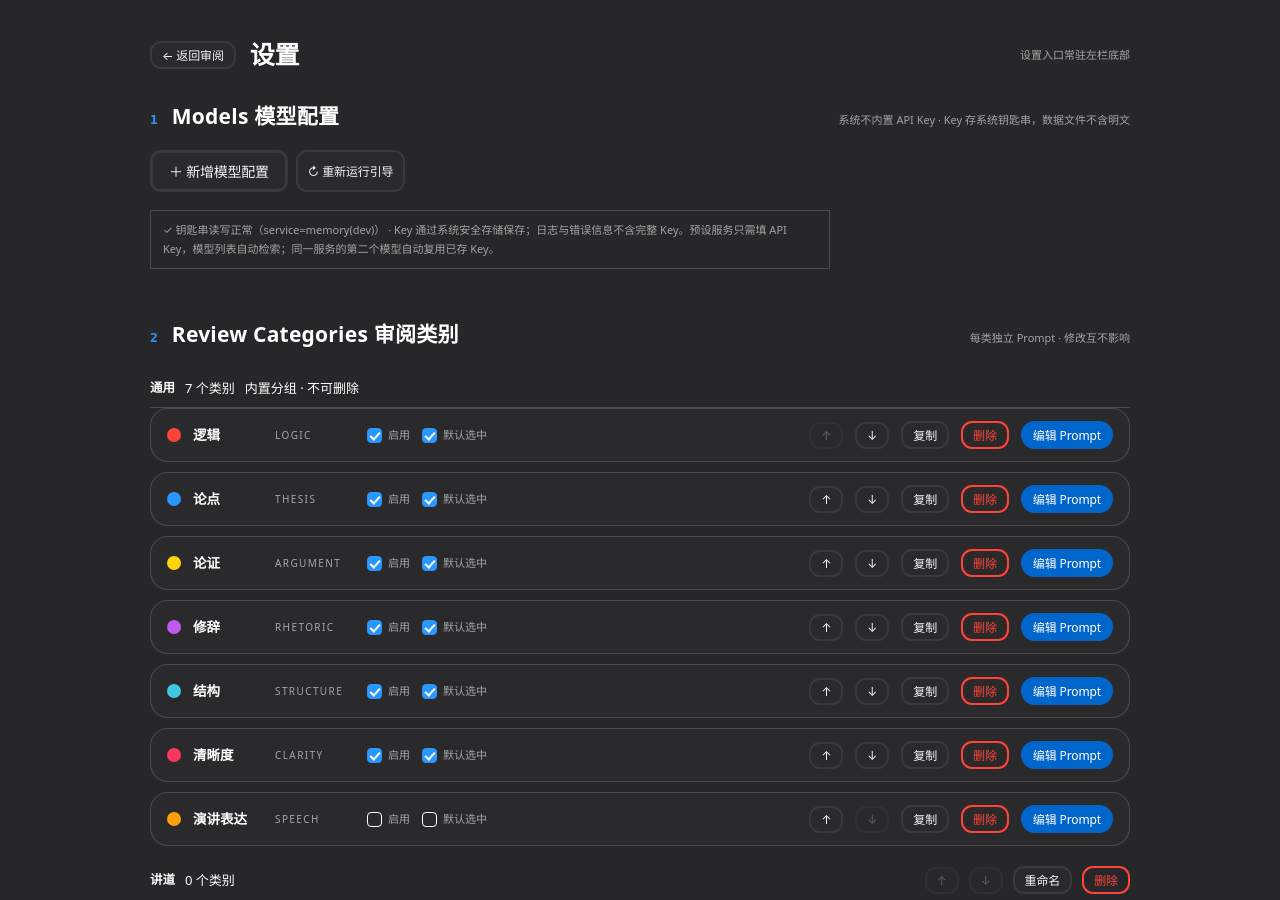
Scenario: 类别分组（spec: settings 类别分组管理） › 重命名分组同步分节标题（spec: 重命名分组同步切换器）
The width and height of the screenshot is (1280, 900).
Click the button "重命名".
click(1042, 880)  # box top-left (1013, 866), bottom-right (1072, 894)
(page scrolled)
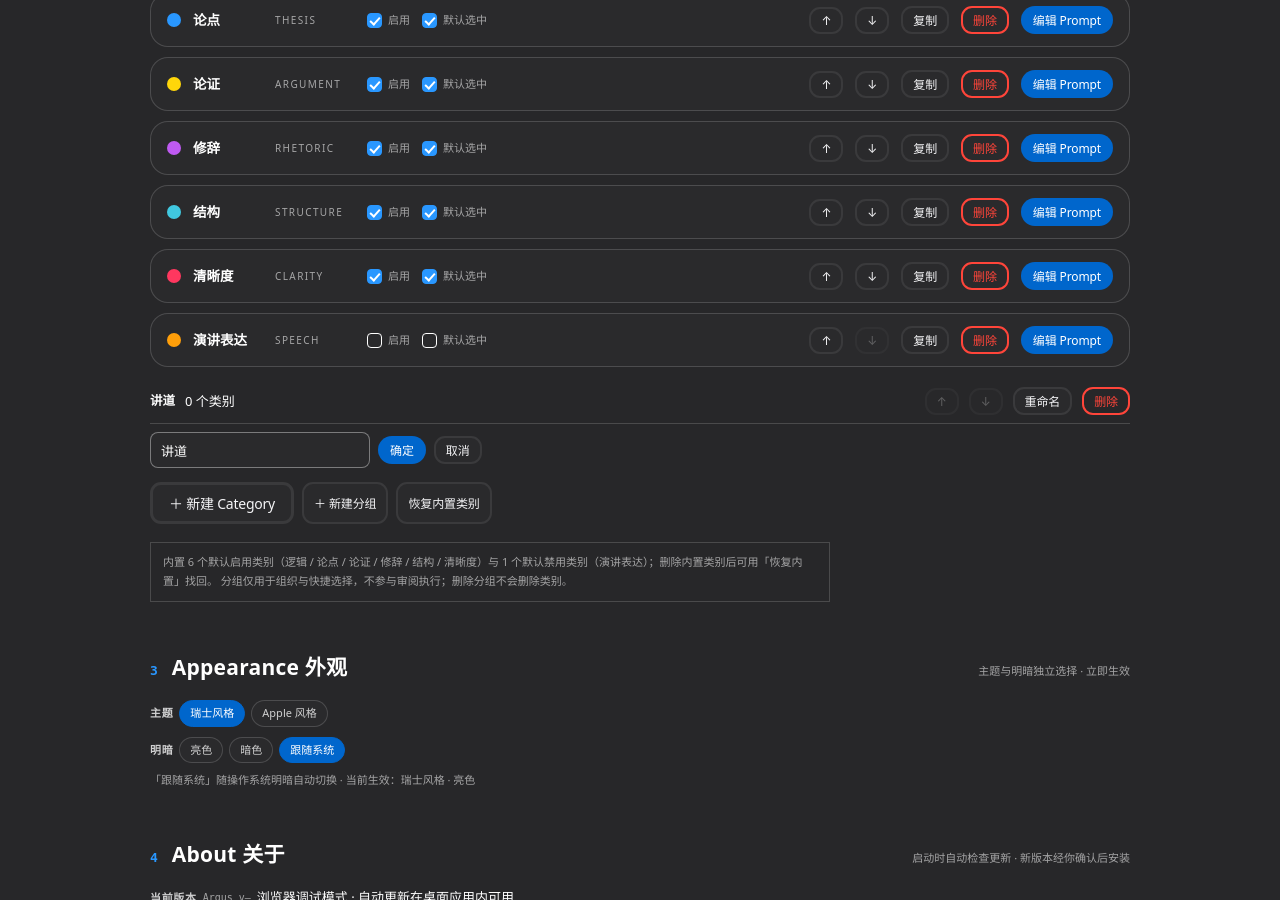
Replace the text in the field with test id "group-rename-input" with "讲道稿" at (260, 450), box top-left (150, 432), bottom-right (370, 468)
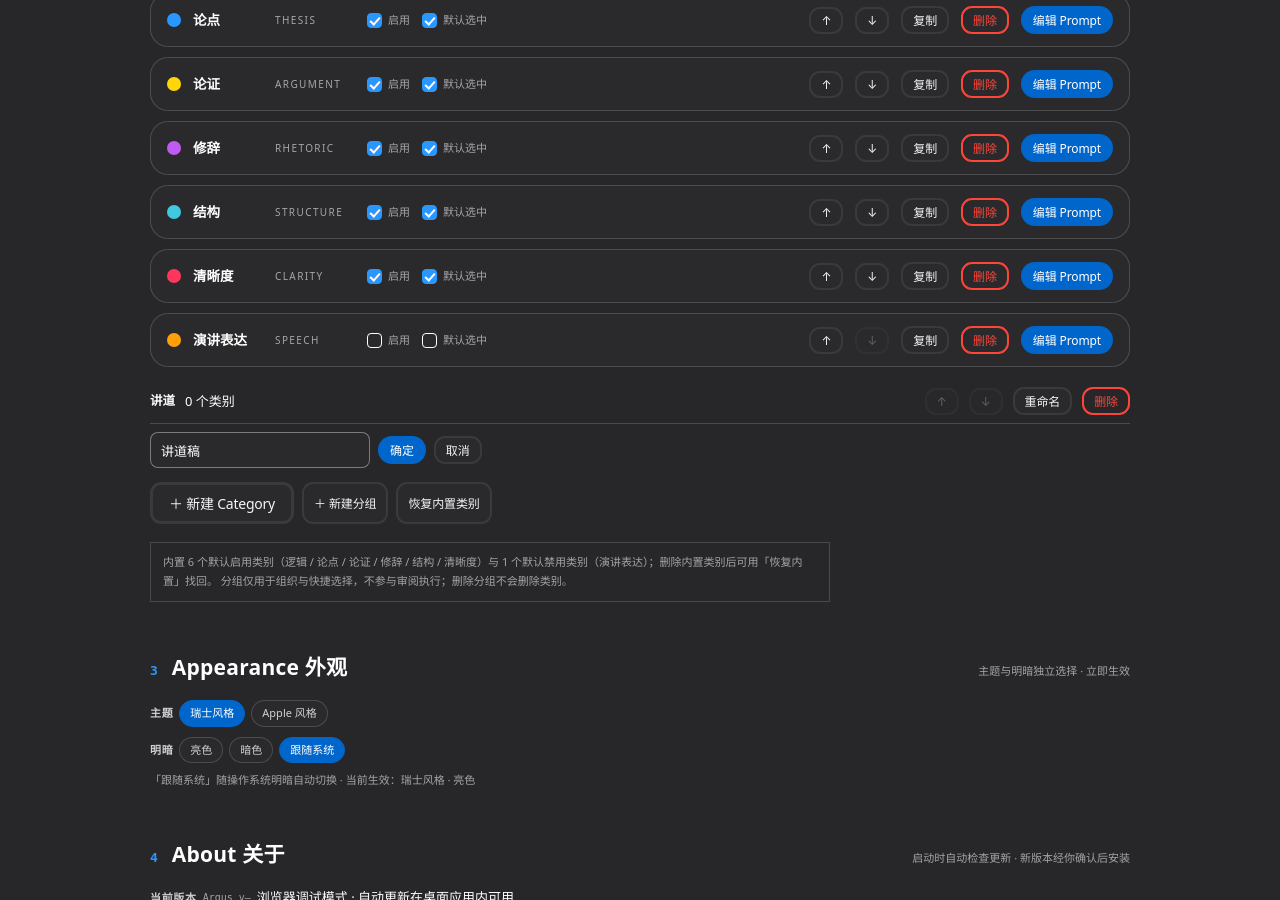
Click the button "确定".
click(402, 450)  # box top-left (378, 436), bottom-right (426, 464)
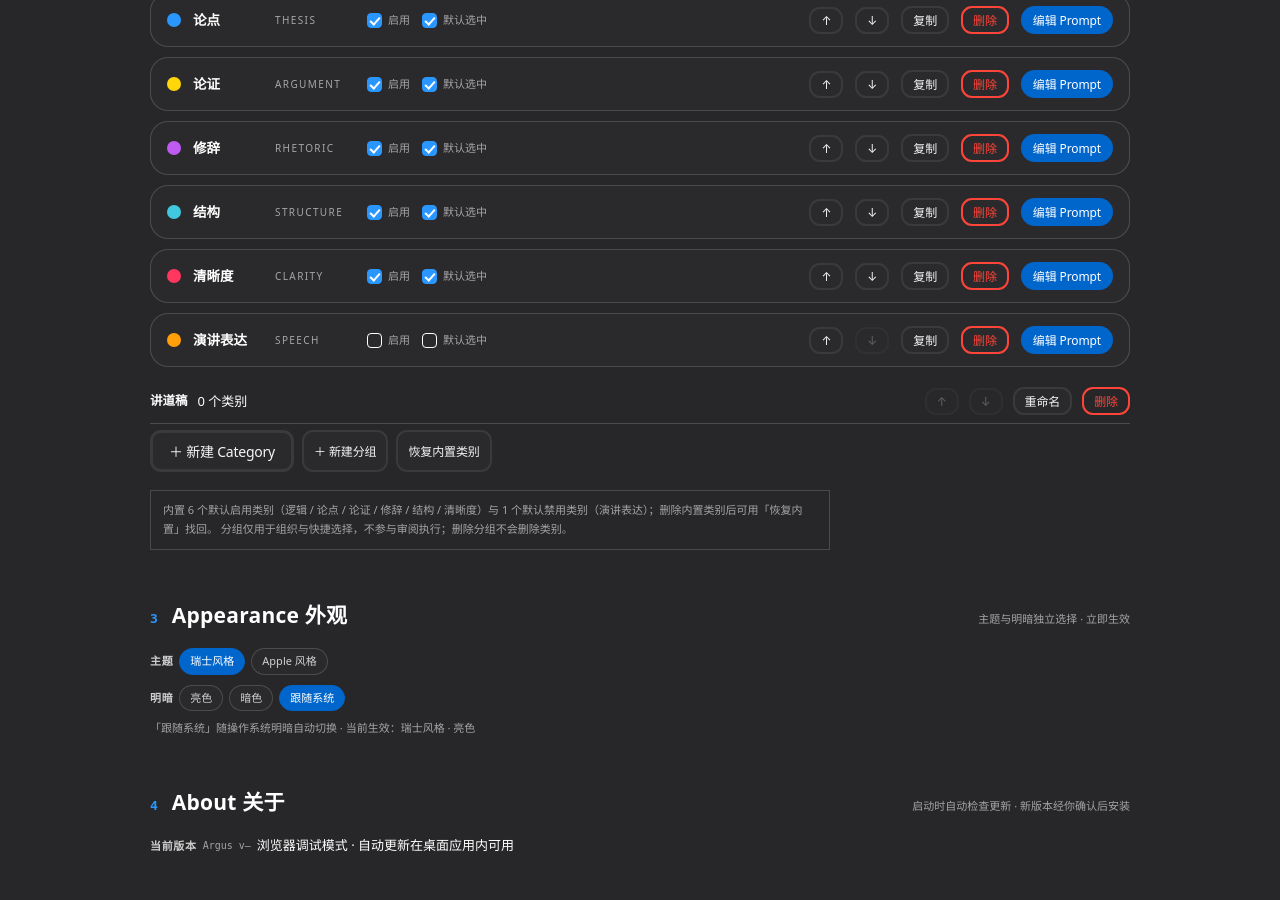
Expected: the text "讲道稿" is shown, top-left (150, 391), bottom-right (188, 412)
